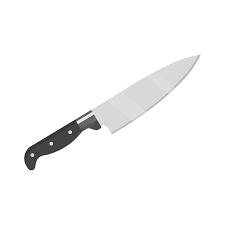Knife: (23, 53, 200, 170)
